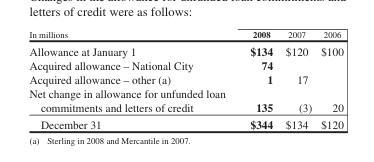table: (28, 29, 342, 130)
table column: (28, 29, 237, 130), (237, 29, 278, 130), (278, 29, 315, 130), (315, 29, 342, 130)
table column header: (28, 29, 342, 41)
table row: (28, 85, 342, 115), (28, 41, 342, 57), (28, 115, 342, 130), (28, 57, 342, 71), (28, 71, 342, 85), (28, 29, 342, 41)
